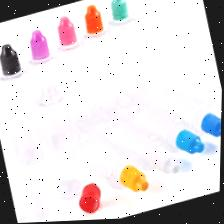plastic: (21, 73, 97, 210), (13, 15, 79, 154), (39, 2, 102, 136), (0, 33, 49, 187), (68, 0, 126, 121), (90, 107, 183, 178), (93, 0, 152, 102), (111, 93, 206, 156), (70, 132, 150, 196), (137, 80, 222, 140), (26, 179, 55, 221), (81, 183, 102, 215)
